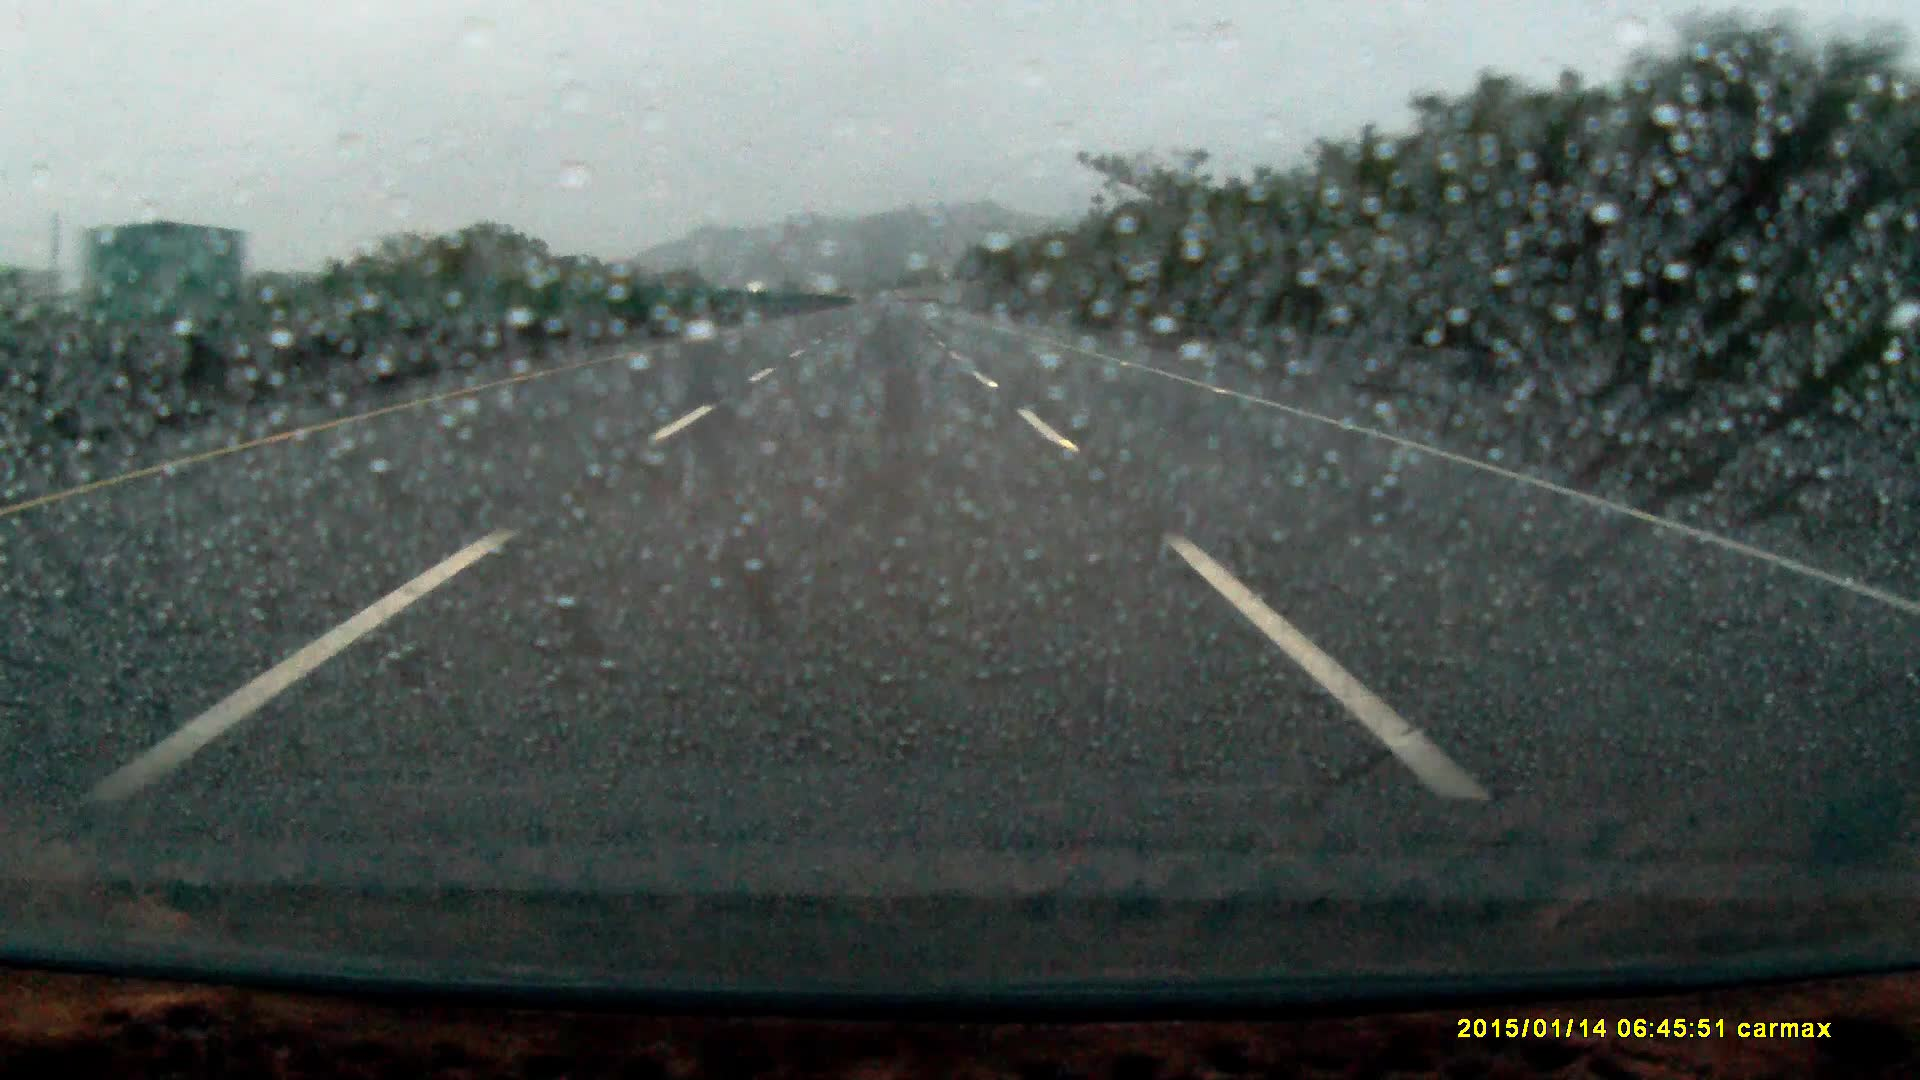vehicle: (5, 227, 273, 402)
